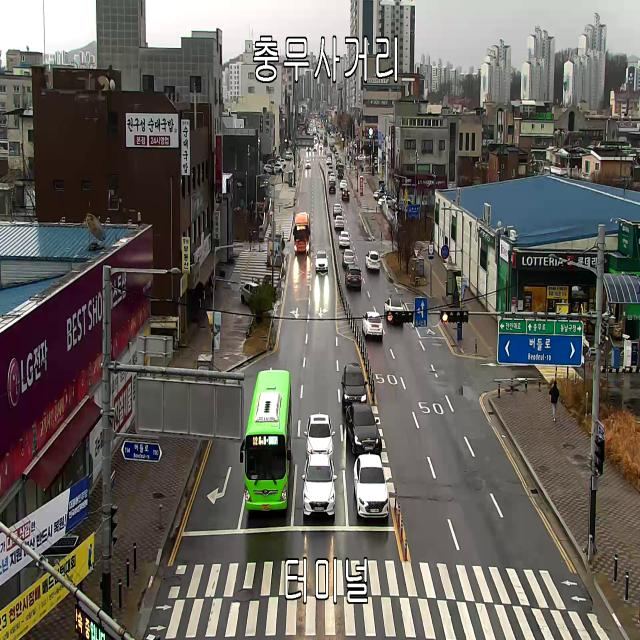Bus: (240, 369, 292, 511), (293, 212, 311, 252)
Car: (353, 454, 389, 518), (302, 454, 338, 516), (346, 404, 382, 456), (304, 414, 336, 463), (341, 363, 368, 408), (362, 311, 383, 338), (240, 282, 259, 304), (384, 298, 404, 318), (345, 264, 362, 287), (314, 250, 328, 270), (366, 250, 380, 269), (341, 249, 355, 265), (378, 195, 396, 207), (339, 231, 350, 248), (262, 164, 278, 174), (376, 192, 388, 202), (334, 216, 344, 228), (333, 203, 342, 216), (373, 188, 385, 197), (342, 188, 349, 201), (277, 159, 286, 169), (329, 182, 336, 194), (340, 179, 347, 189), (355, 154, 365, 161), (329, 172, 336, 182), (305, 160, 311, 169), (326, 157, 332, 164), (328, 165, 333, 173), (306, 146, 311, 152), (374, 156, 377, 164), (319, 143, 323, 149), (334, 152, 338, 158)
Truck: (338, 164, 343, 178)
